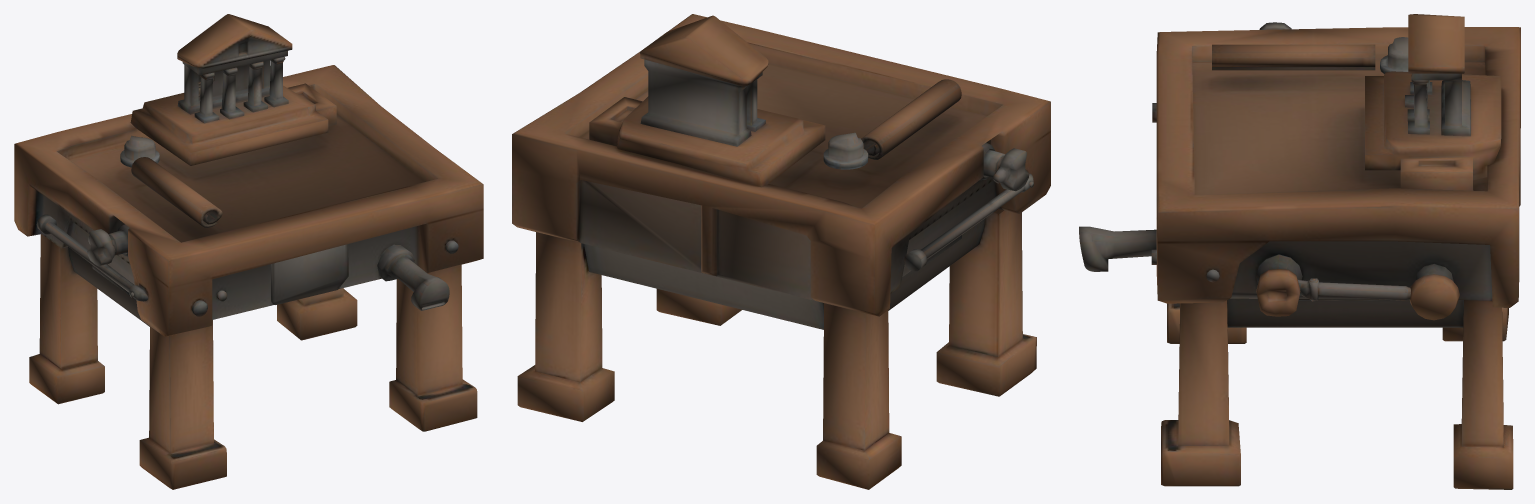
The model's file is Hub_PlanningTable.glb.
The picture shows the model from 3 angles, left to right: view 1: azimuth 30°, elevation 25°; view 2: azimuth 150°, elevation 25°; view 3: azimuth 270°, elevation 25°; orthographic projection. The views are drawn at different scales.
Visible parts, largest first — view 1: tripo_node_edbb27bf-9fc4-4862-ad18-1bfb8d84a409; view 2: tripo_node_edbb27bf-9fc4-4862-ad18-1bfb8d84a409; view 3: tripo_node_edbb27bf-9fc4-4862-ad18-1bfb8d84a409.
Boxes of the visible parts, x1,y1,x2,y2 form: tripo_node_edbb27bf-9fc4-4862-ad18-1bfb8d84a409: (14, 14, 483, 489); tripo_node_edbb27bf-9fc4-4862-ad18-1bfb8d84a409: (512, 14, 1050, 489); tripo_node_edbb27bf-9fc4-4862-ad18-1bfb8d84a409: (1079, 14, 1520, 489).
Bounding box in the file's own units: 1 × 0.9023 × 0.8974.
1 material, 1 textured.
